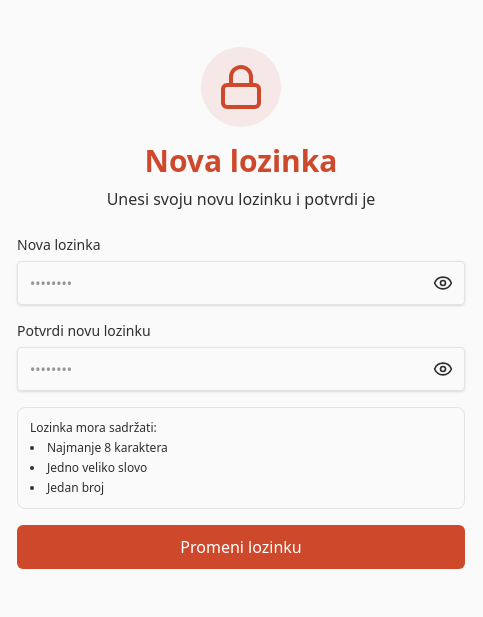
Scenario: PasswordResetForm › clears error state on new submission
# First submission - should fail
Type "NewPassword1" into the password field with placeholder "••••••••" at {"x": 241, "y": 283}, box x1=17 y1=261 x2=465 y2=305
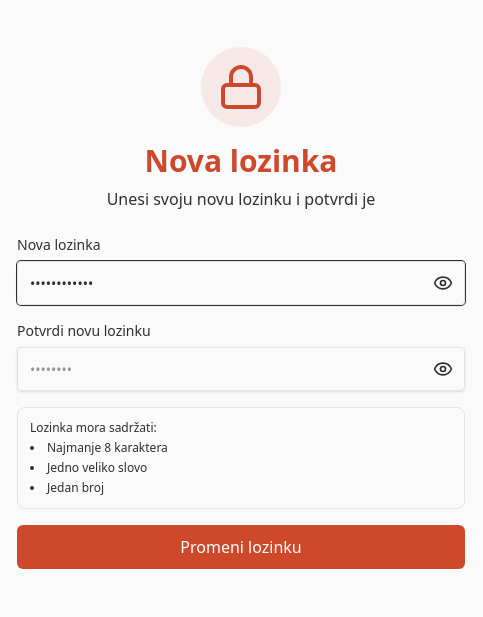
Type "NewPassword1" into the password field with placeholder "••••••••" at {"x": 241, "y": 369}, box x1=17 y1=347 x2=465 y2=391
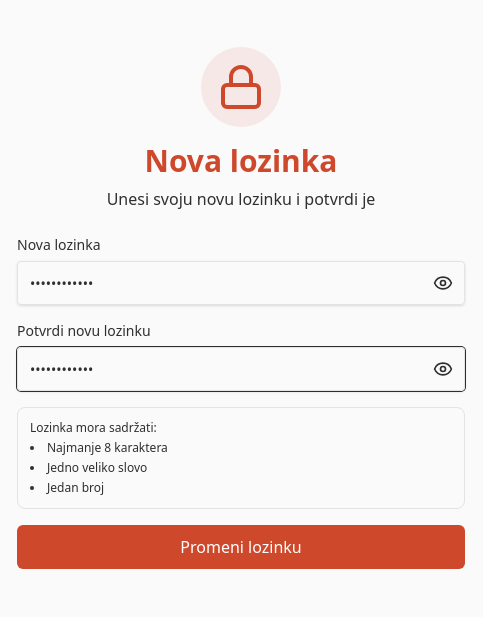
Click the button "Promeni lozinku" at {"x": 241, "y": 547}, box x1=17 y1=525 x2=465 y2=569
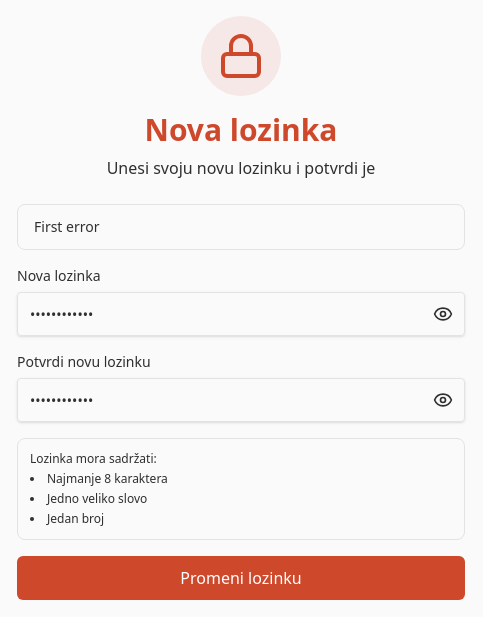
Expected: the text "First error" is shown, x1=17 y1=204 x2=465 y2=250
# Second submission - should succeed and clear error
Click the button "Promeni lozinku" at {"x": 241, "y": 578}, box x1=17 y1=556 x2=465 y2=600
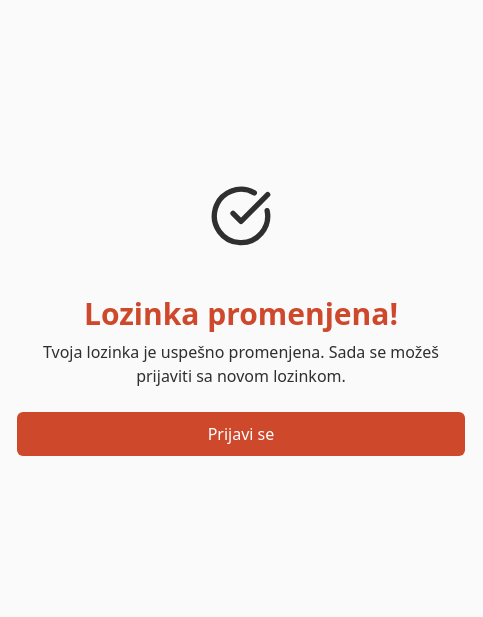
Expected: the text "First error" is gone
